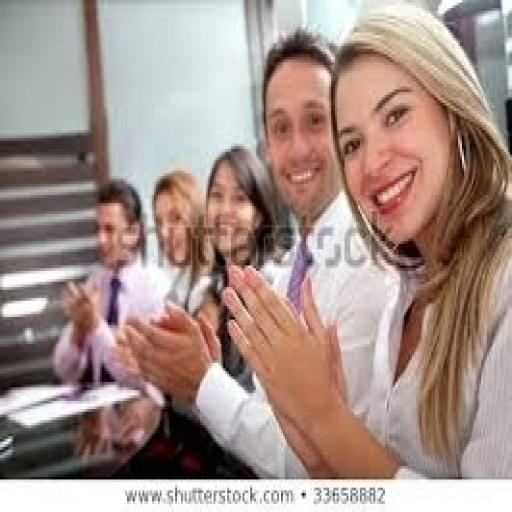clapping: (221, 2, 510, 480), (110, 24, 394, 480), (50, 176, 169, 390), (148, 168, 216, 317)
